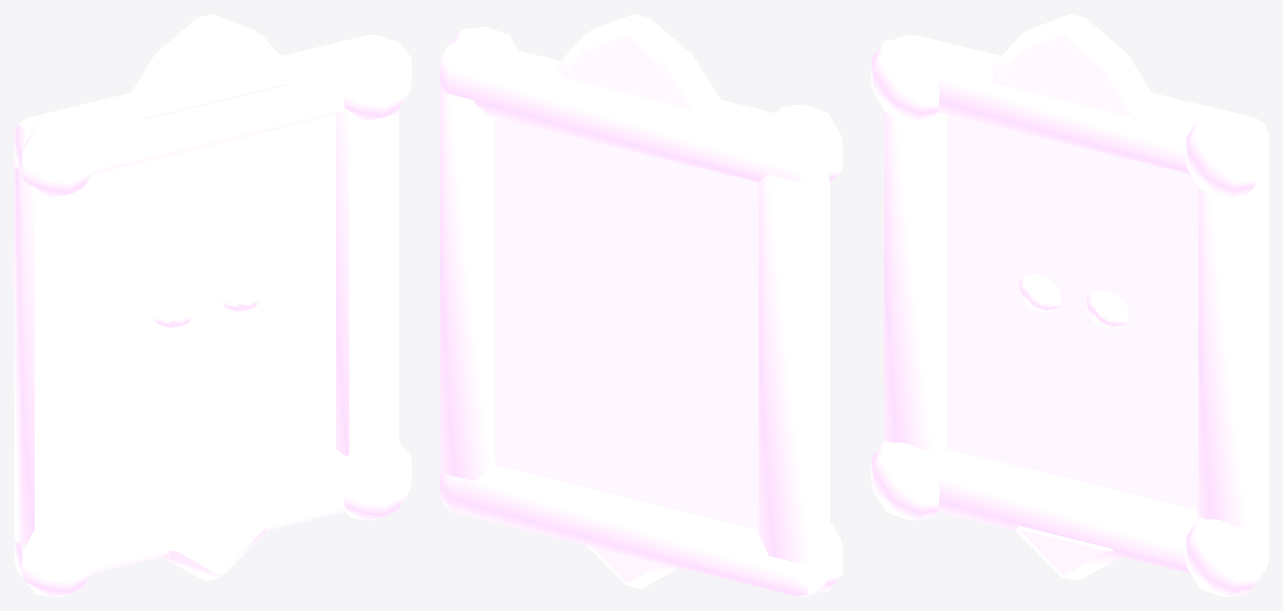
Rendered from portrait.gltf.
3 views of the same model, side by side, from view 1: azimuth 30°, elevation 25°; view 2: azimuth 150°, elevation 25°; view 3: azimuth 330°, elevation 25° (orthographic).
Visible parts, largest first — view 1: HAUNT_static, HAUNT_portrait_eyes; view 2: HAUNT_static; view 3: HAUNT_static, HAUNT_portrait_eyes.
Boxes of the visible parts, x1,y1,x2,y2 form: HAUNT_static: (14, 14, 411, 596); HAUNT_portrait_eyes: (169, 283, 258, 325); HAUNT_static: (440, 14, 842, 596); HAUNT_static: (871, 14, 1268, 596); HAUNT_portrait_eyes: (1024, 283, 1113, 325).
Bounding box in the file's own units: 0.8677 × 1.19 × 0.1434.
